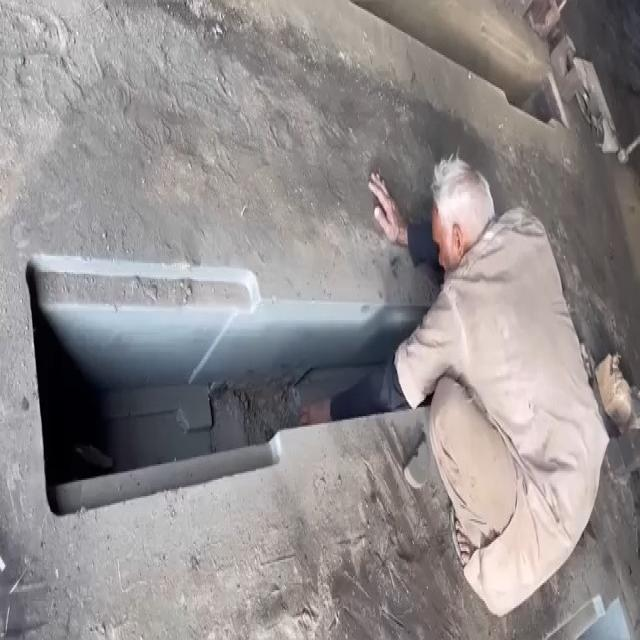dress: (391, 211, 608, 618)
